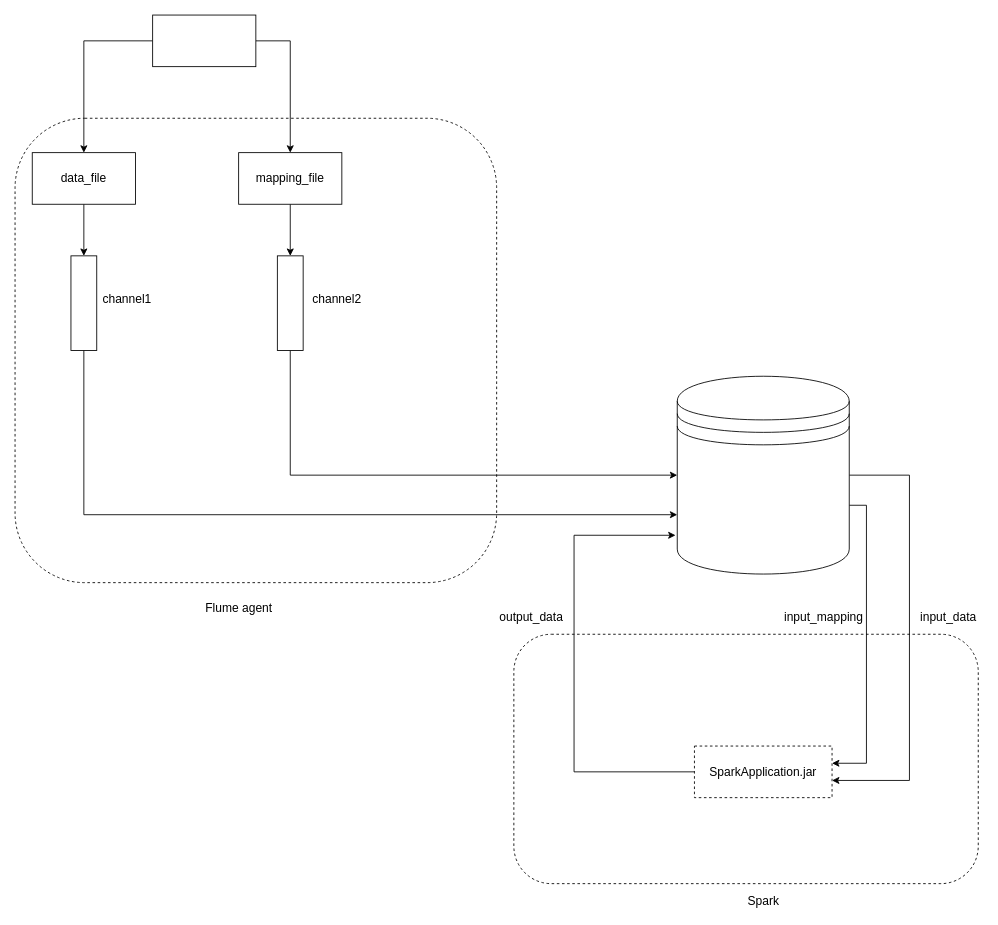
Image size: 998x925. Some labels were removed from this diagram. Here are the shapes that lost their labels. From the top down, the box of each, then its label:
(152, 14, 256, 67): news feed
(676, 375, 849, 574): HDFS
